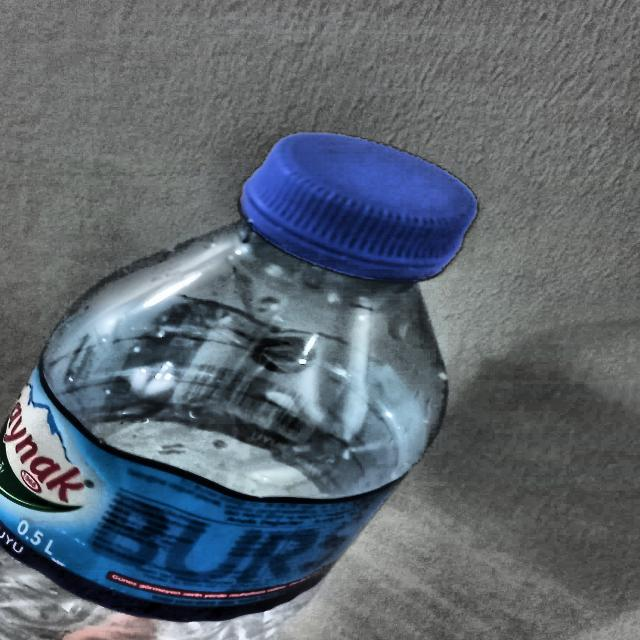plastic: (0, 121, 487, 640)
